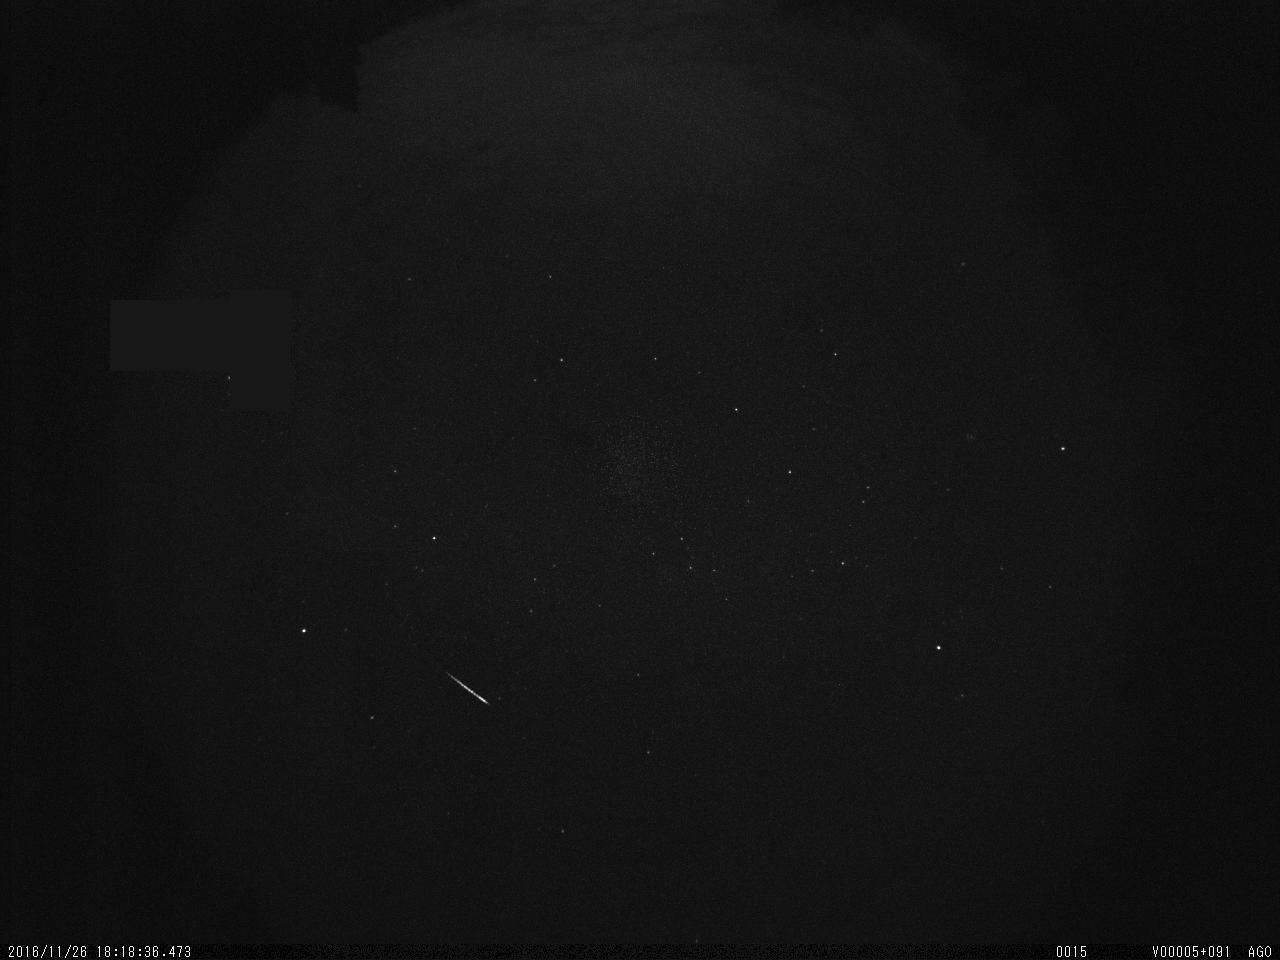Meteor: (447, 667, 492, 704)
